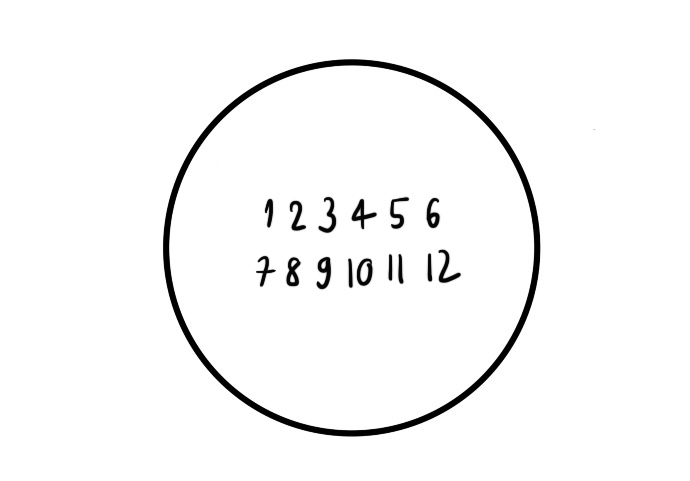eight: (284, 253, 302, 292)
eleven: (386, 250, 408, 289)
five: (388, 195, 409, 232)
four: (349, 197, 377, 235)
nine: (314, 252, 334, 293)
one: (262, 194, 275, 230)
seven: (255, 253, 276, 289)
six: (423, 195, 442, 231)
ten: (344, 254, 375, 289)
three: (319, 192, 337, 236)
twelve: (425, 247, 461, 284)
two: (287, 198, 308, 231)
